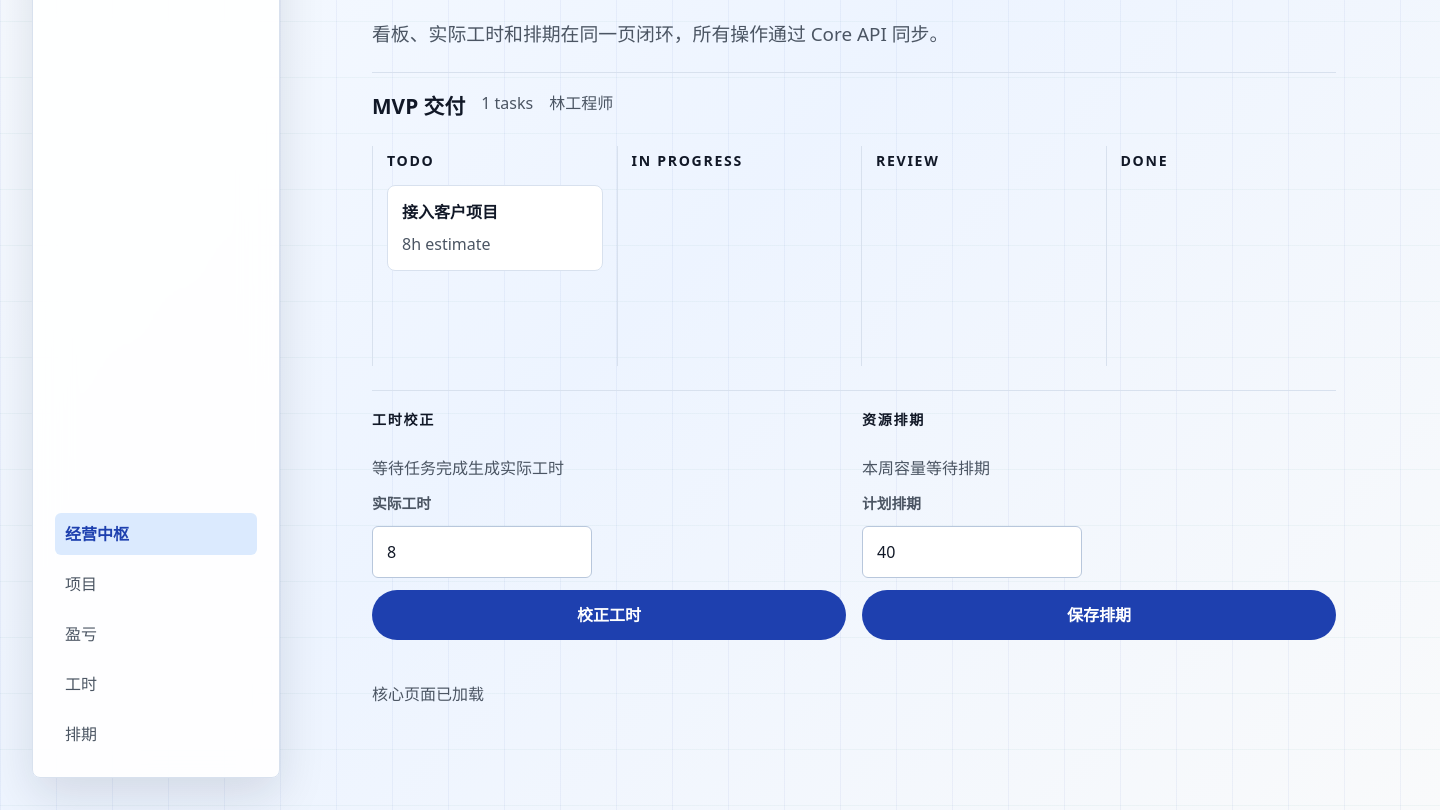
Core project pages › schedules resource allocation and warns when capacity is overloaded
The image size is (1440, 810).
(page scrolled)
Expected: the text "接入客户项目" is shown, [402,201,498,223]
Replace the text in the number field labelled "计划排期" with "45". click: (972, 552)
box: [862,526,1082,578]
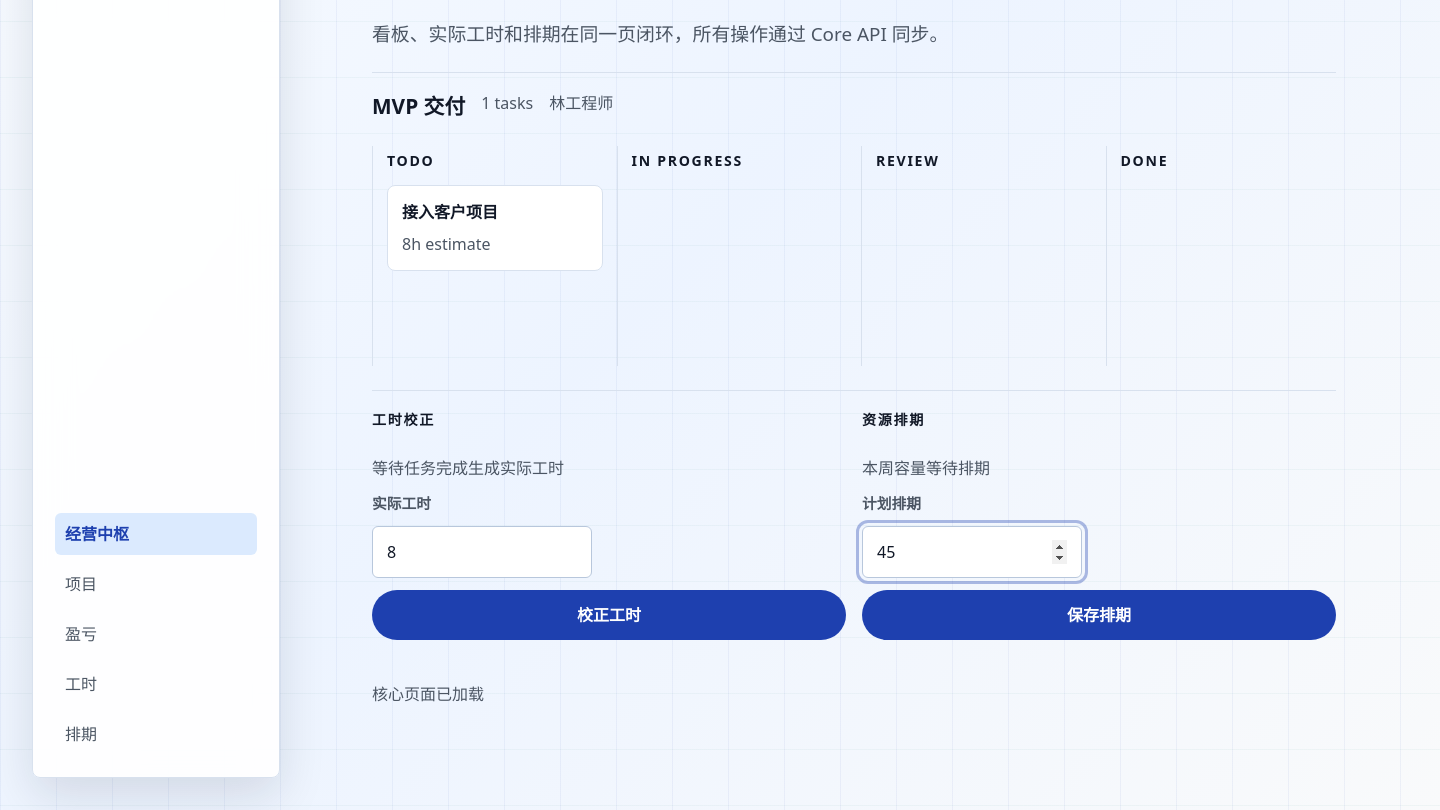
Click the button "保存排期". click: (1099, 615)
box: [862,590,1336,640]
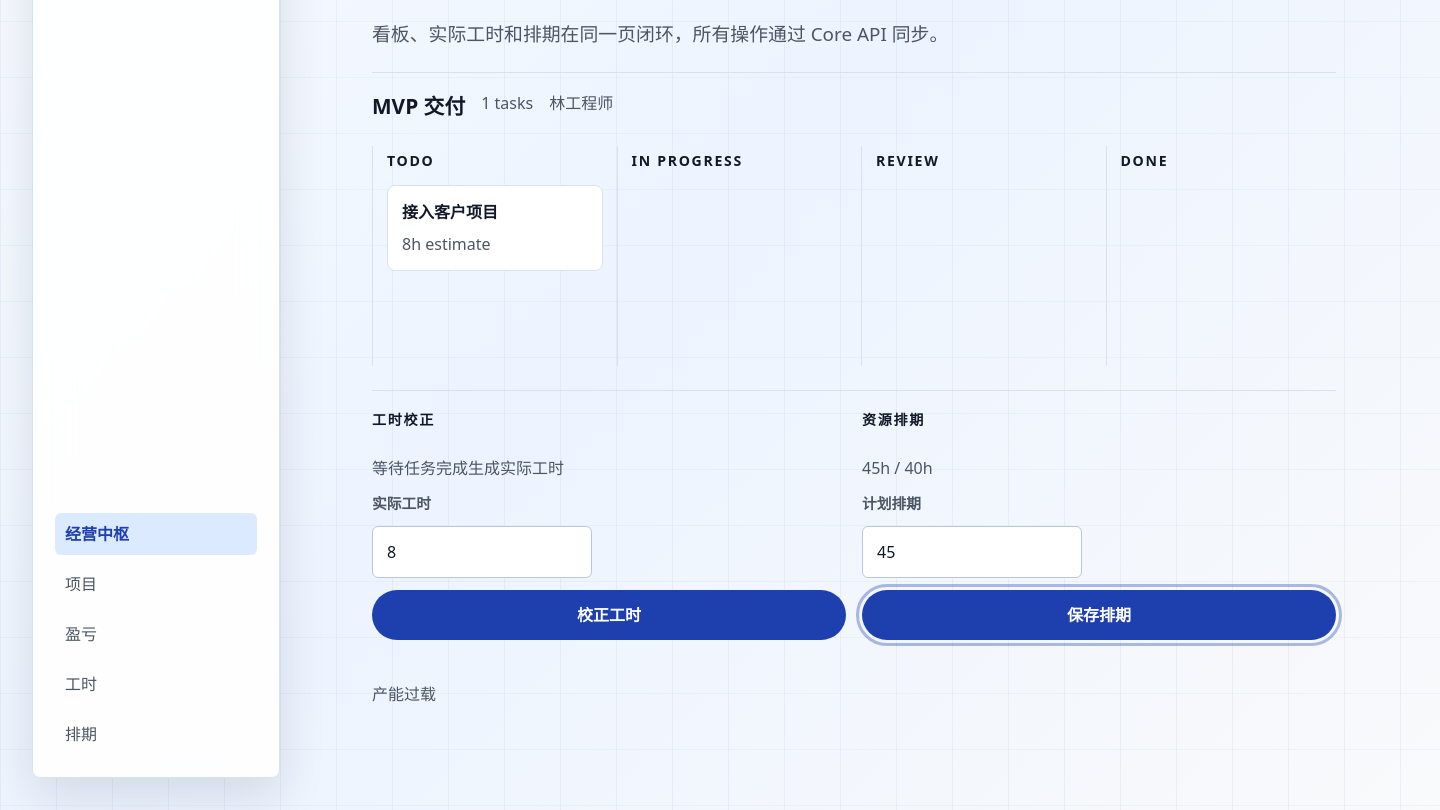
Expected: the text "产能过载" is shown, [372,683,436,705]
Expected: the text "45h / 40h" is shown, [862,457,933,479]
